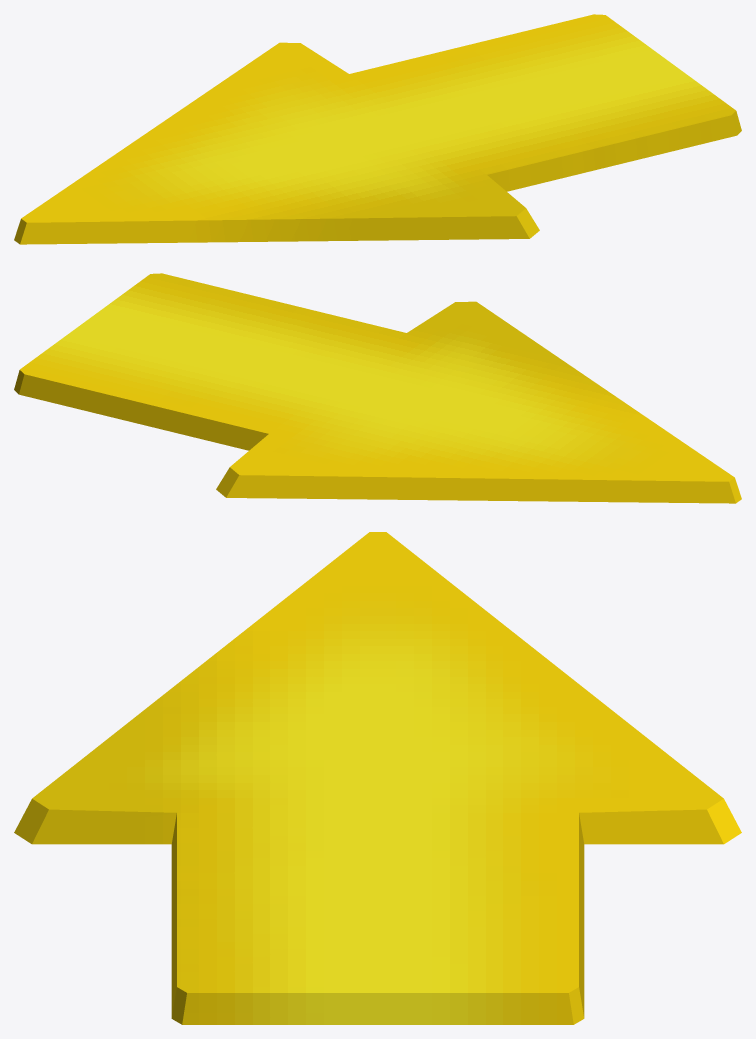
File: Button_Arrow.glb
The picture shows the model from 3 angles, top to bottom: view 1: azimuth 30°, elevation 25°; view 2: azimuth 150°, elevation 25°; view 3: azimuth 270°, elevation 25°; orthographic projection. The views are drawn at different scales.
Visible parts, largest first — view 1: Plane; view 2: Plane; view 3: Plane.
Part boxes in pixels (x1=…): Plane: x1=14, y1=14, x2=741, y2=244; Plane: x1=14, y1=273, x2=741, y2=503; Plane: x1=14, y1=532, x2=741, y2=1024.
Bounding box in the file's own units: 1.72 × 0.05 × 1.13.
1 material, 1 textured.
